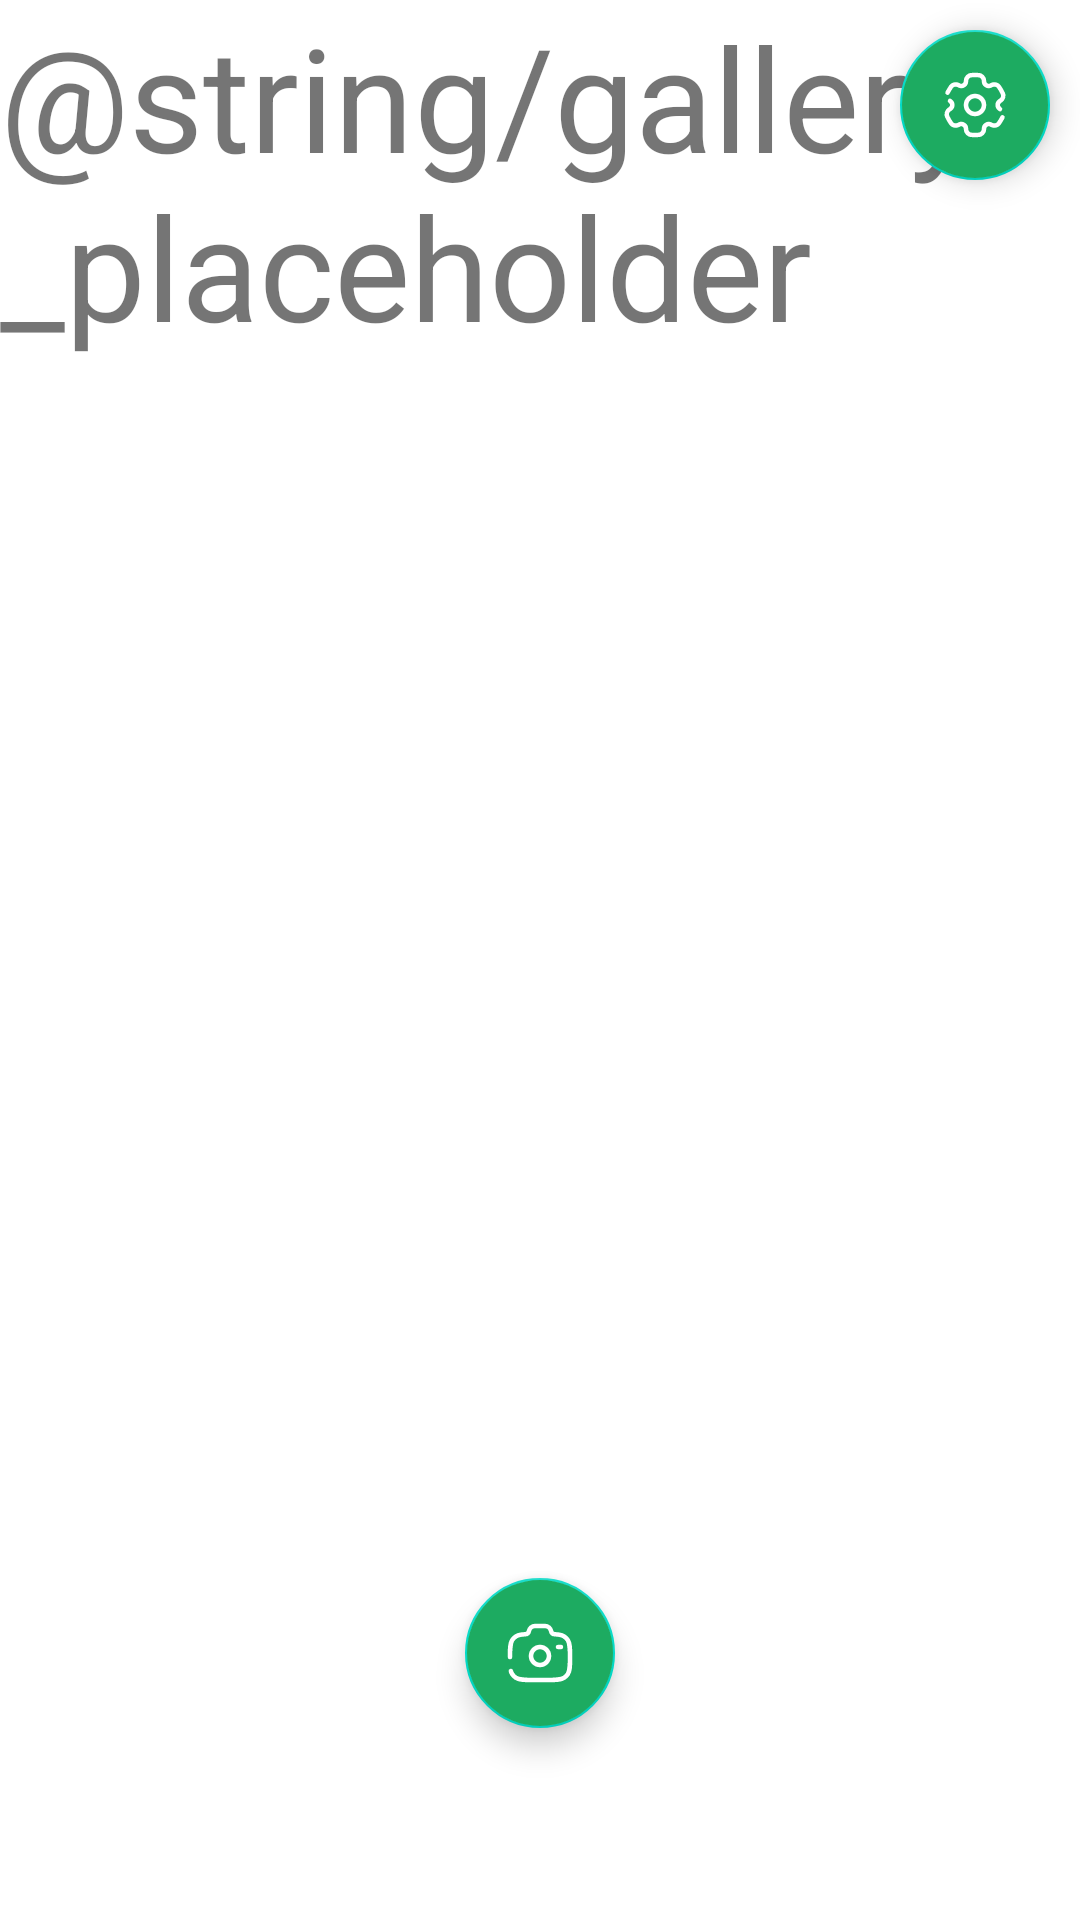

Screen size 1080*1920. Icon name, then its box in pixels as (x1,y1,x2,y2):
Camera: (465,1578,615,1728)
Settings: (900,30,1050,180)
